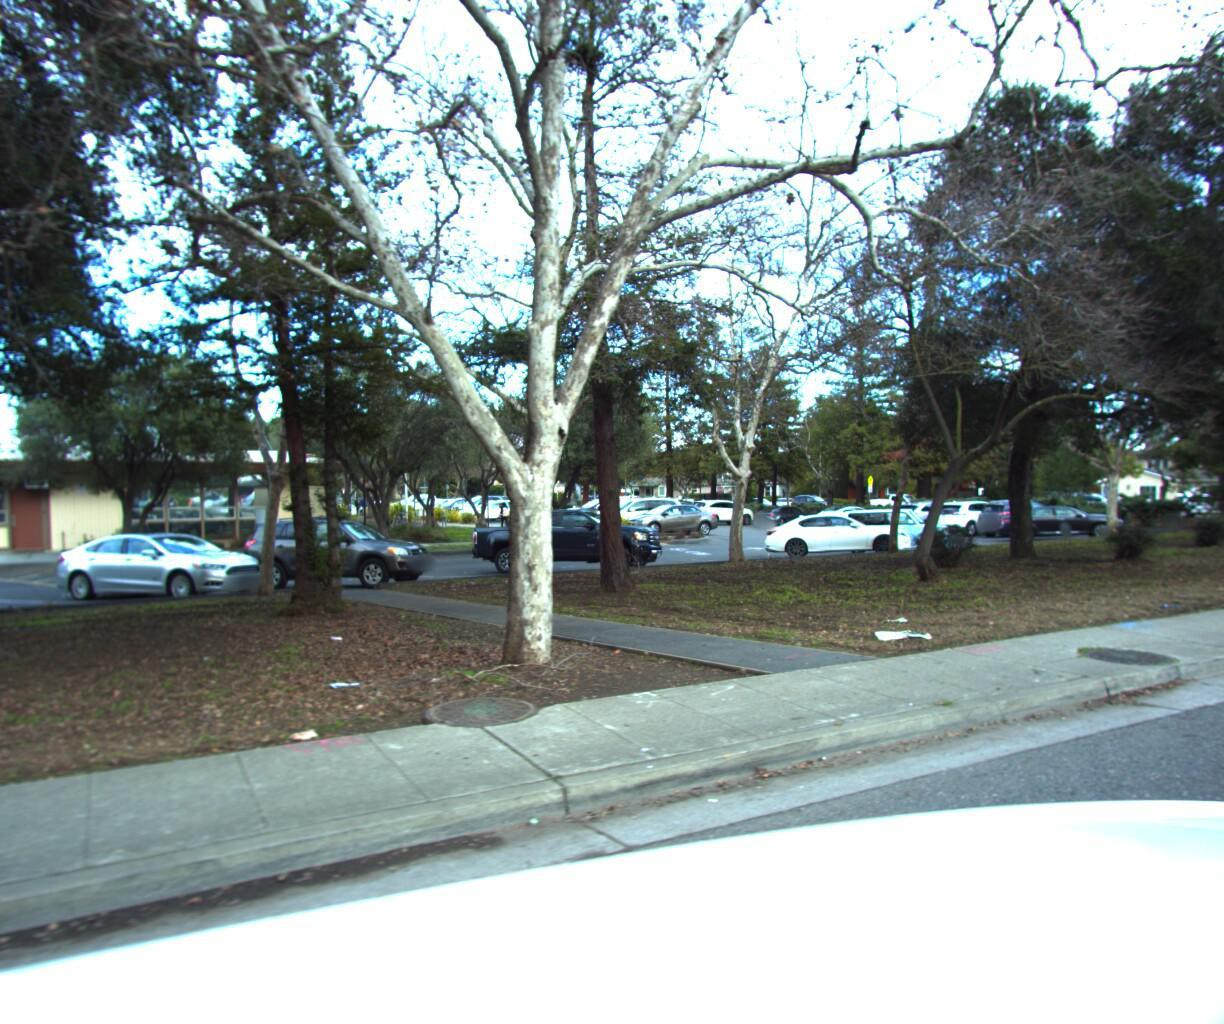car: (867, 489, 939, 511)
